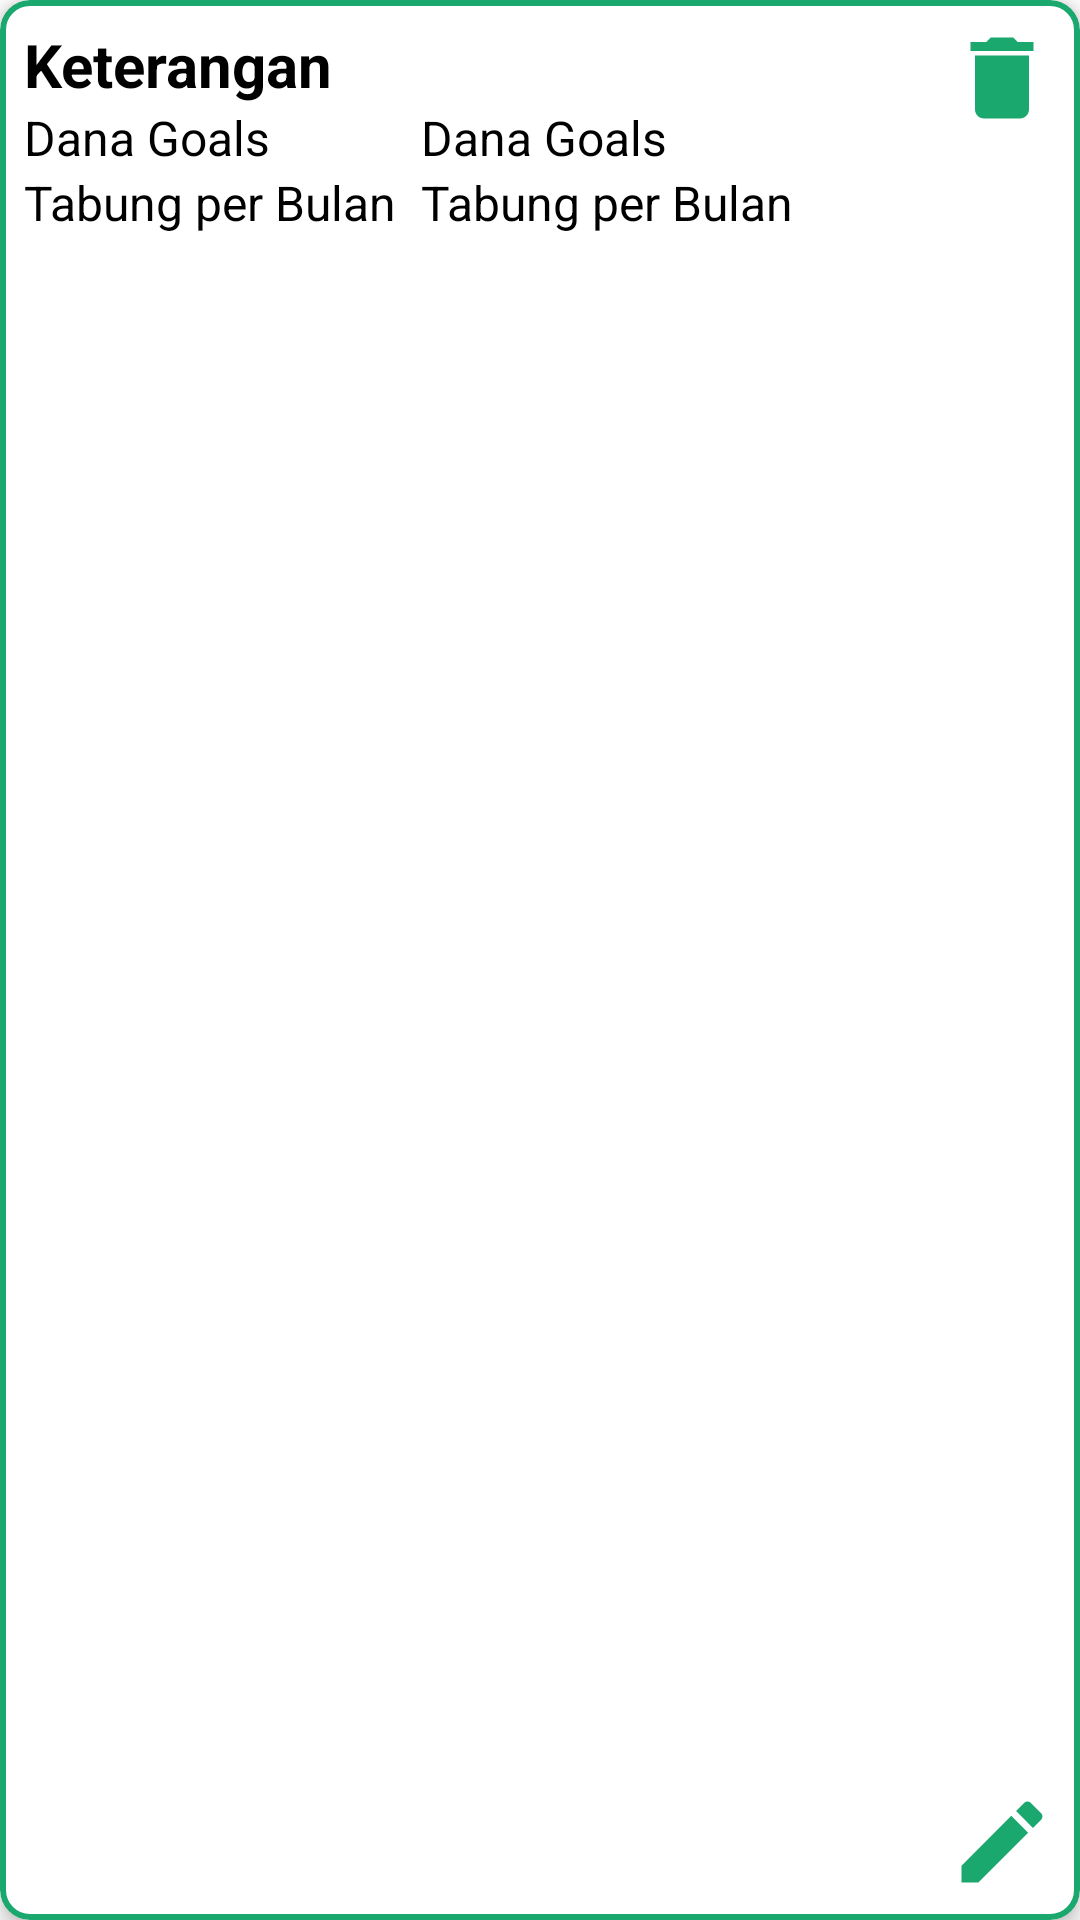

Where to tap for icons on this 1080 × 1920 app screen, as (x,y):
delete: (1002,78)
edit: (1002,1842)
